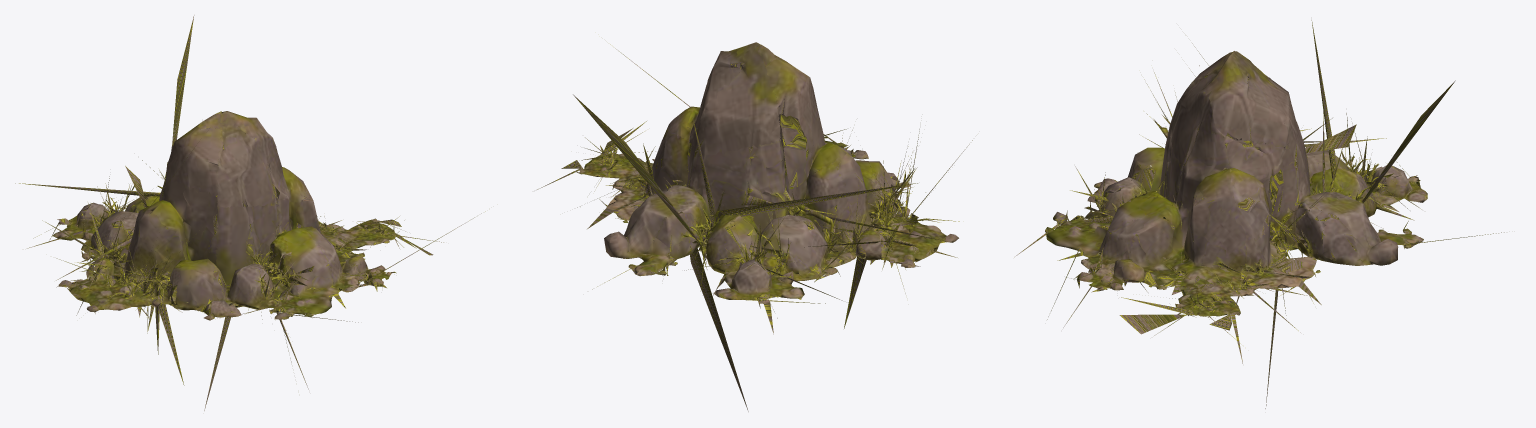
Rendered from rock_mid.glb.
The picture shows the model from 3 angles, left to right: view 1: azimuth 30°, elevation 25°; view 2: azimuth 150°, elevation 25°; view 3: azimuth 270°, elevation 25°; orthographic projection. The views are drawn at different scales.
Visible parts, largest first — view 1: Roccia_media; view 2: Roccia_media; view 3: Roccia_media.
Boxes of the visible parts, bbox=[...] form: Roccia_media: bbox=[15, 15, 485, 410]; Roccia_media: bbox=[537, 42, 972, 411]; Roccia_media: bbox=[1014, 20, 1504, 408].
Bounding box in the file's own units: 2.35 × 1.9 × 2.3.
Materials: 1 (1 with a texture image).
